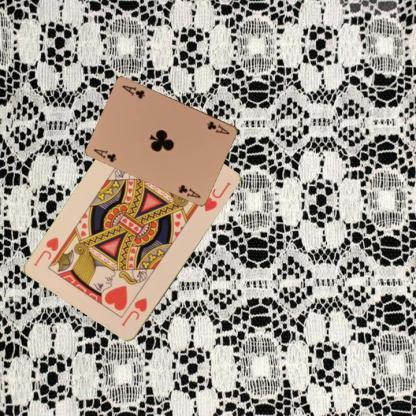Ac: (204, 118, 232, 136), (91, 146, 118, 164)
Jh: (119, 295, 148, 328)
